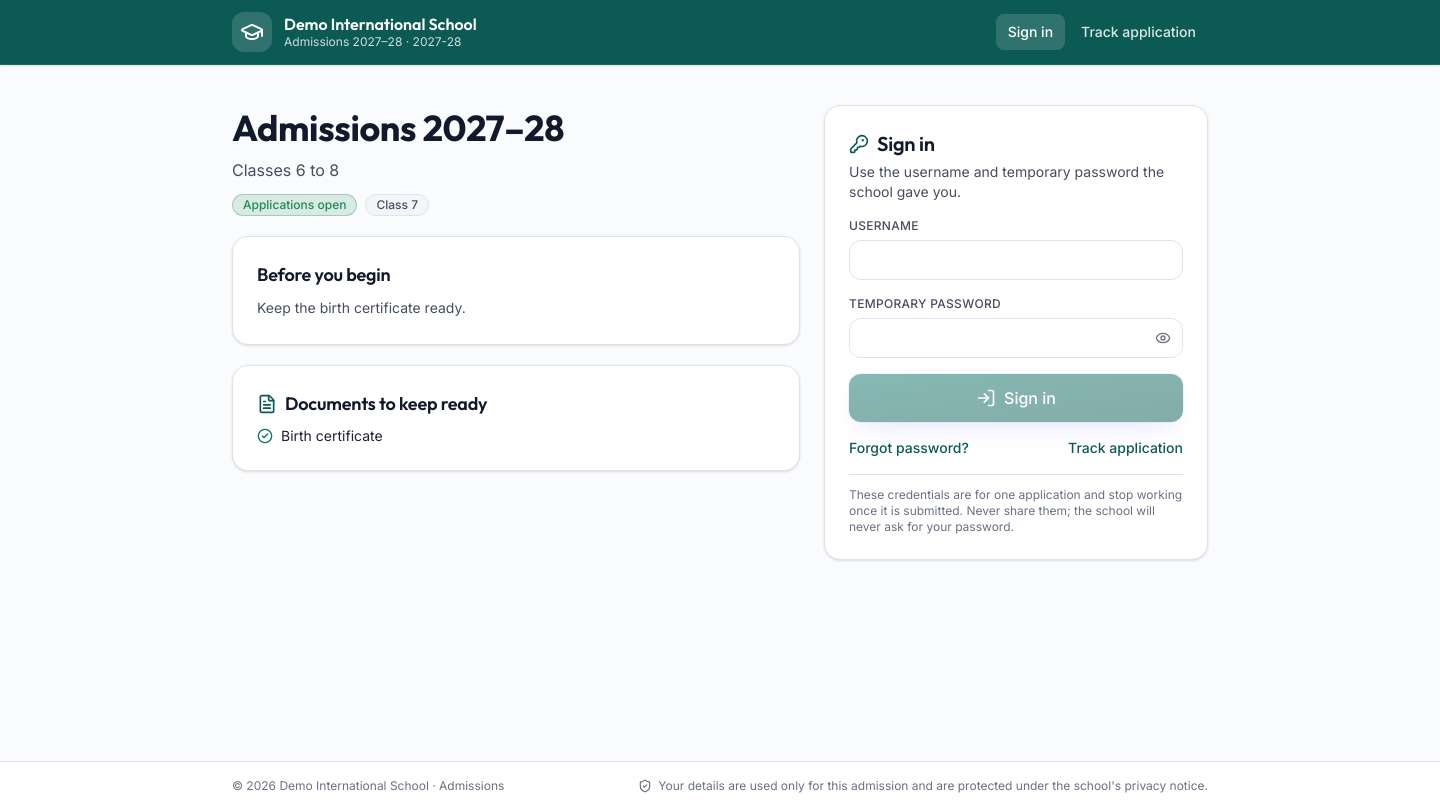
Test: standalone admission application › signs in with the one-time credential, keeps its own token storage and opens the dashboard
The image size is (1440, 810).
Type "  demo-k7qx3p9m " into the field labelled "Username" at coordinates (1016, 260), box [849,240,1183,280]
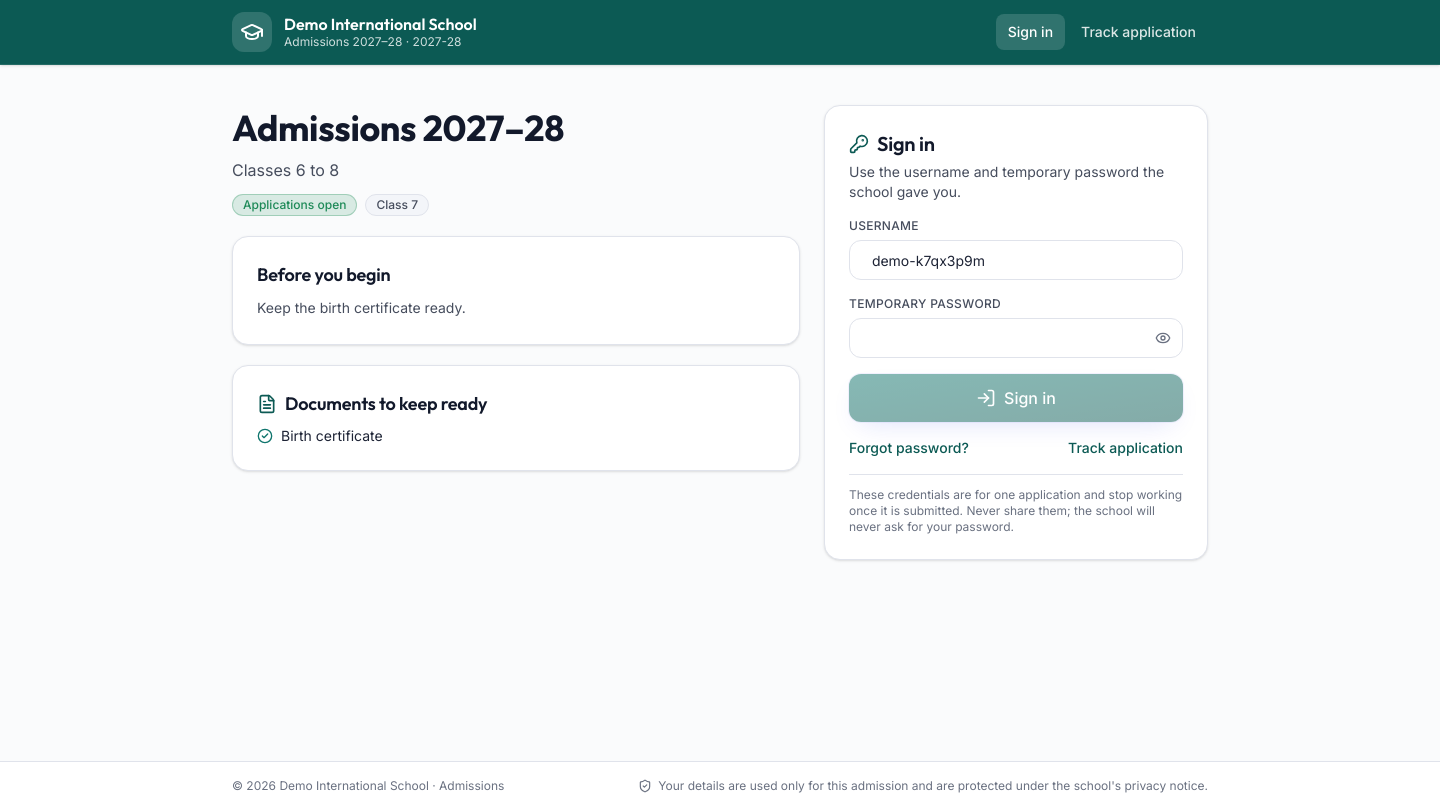
Type "Kq7m-X3pz-9WrT" into the password field labelled "Temporary password" at coordinates (1016, 338), box [849,318,1183,358]
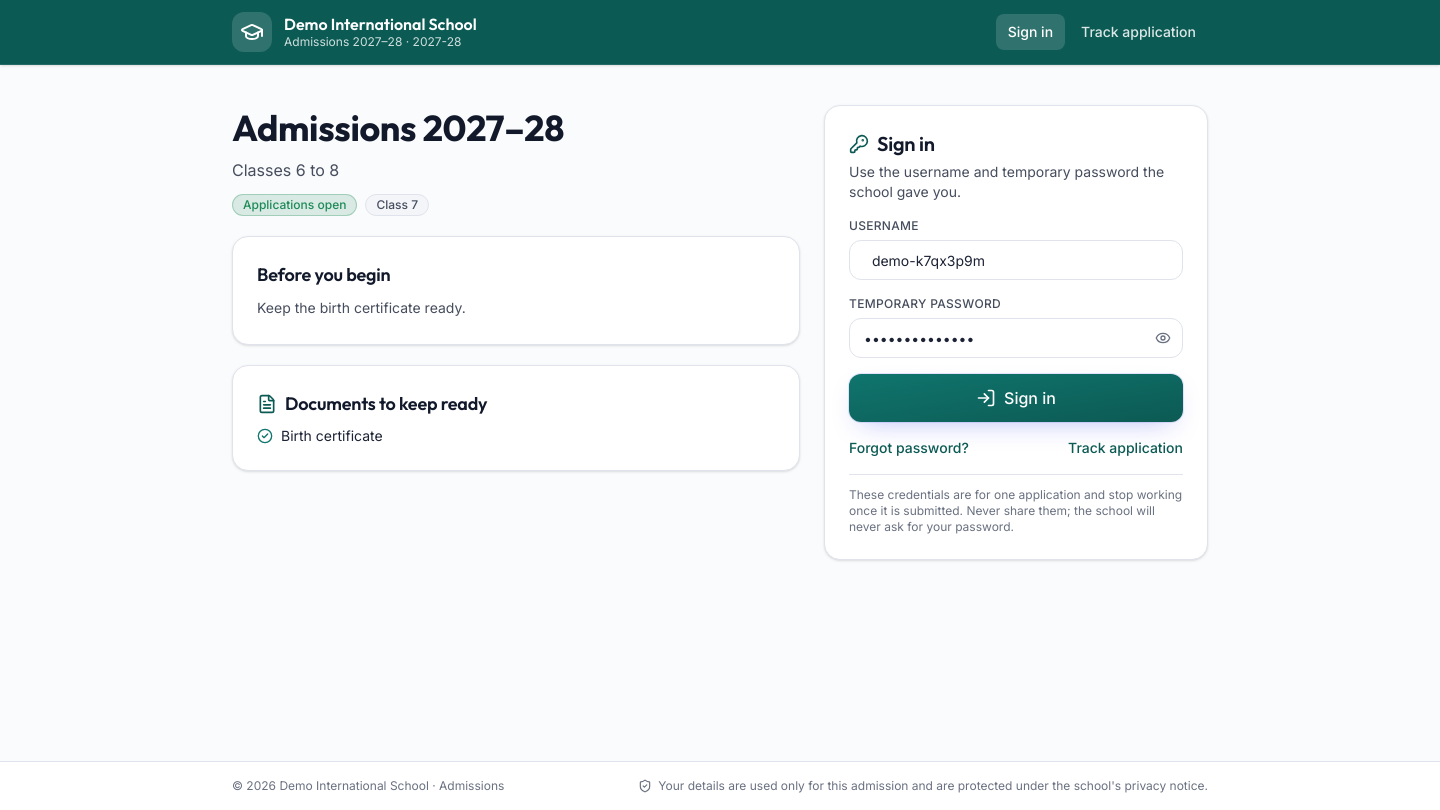
Click the button "Sign in" at coordinates (1016, 398), box [849,374,1183,422]
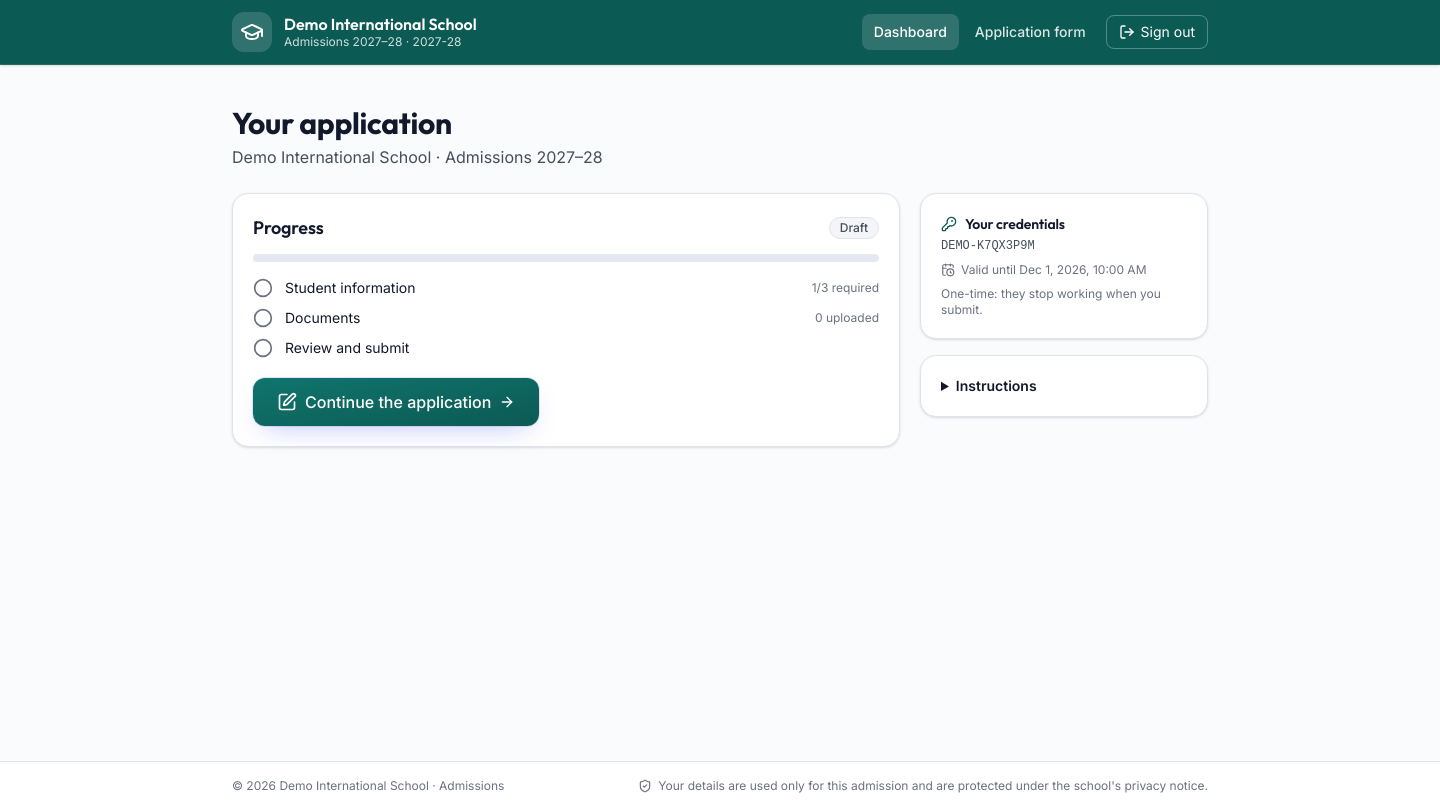
Check: the heading "Your application" is shown, box [232,104,452,142]
Check: the text "DEMO-K7QX3P9M" is shown, box [941,239,1035,253]
